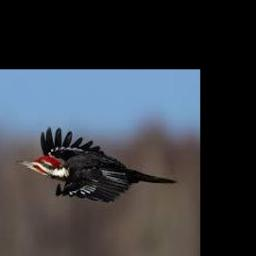Woodpecker: (15, 126, 177, 203)
